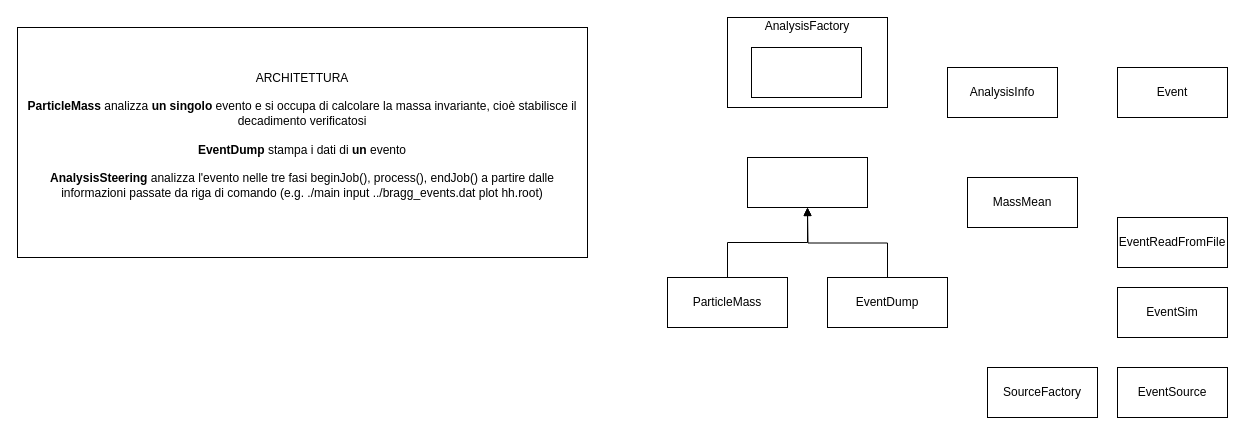
This 1245x435 diagram has some shape labels left out. Here are the shapes that lost their labels. From the top down, the centre of each, then its label:
point 806,72: AbsFactory
point 807,182: AnalysisSteering
